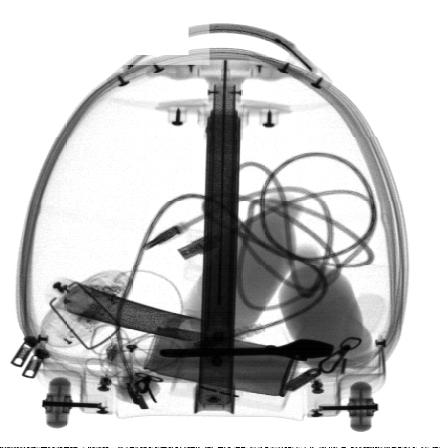Wrench: (159, 338, 335, 362)
